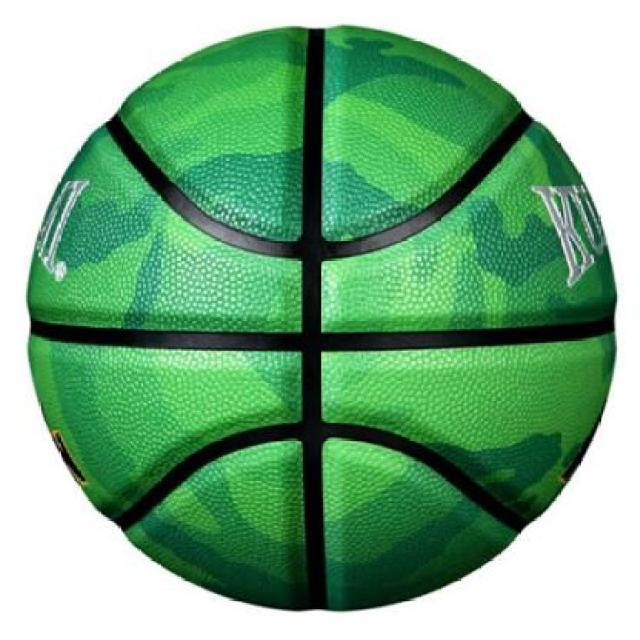basketball: (26, 24, 620, 612)
